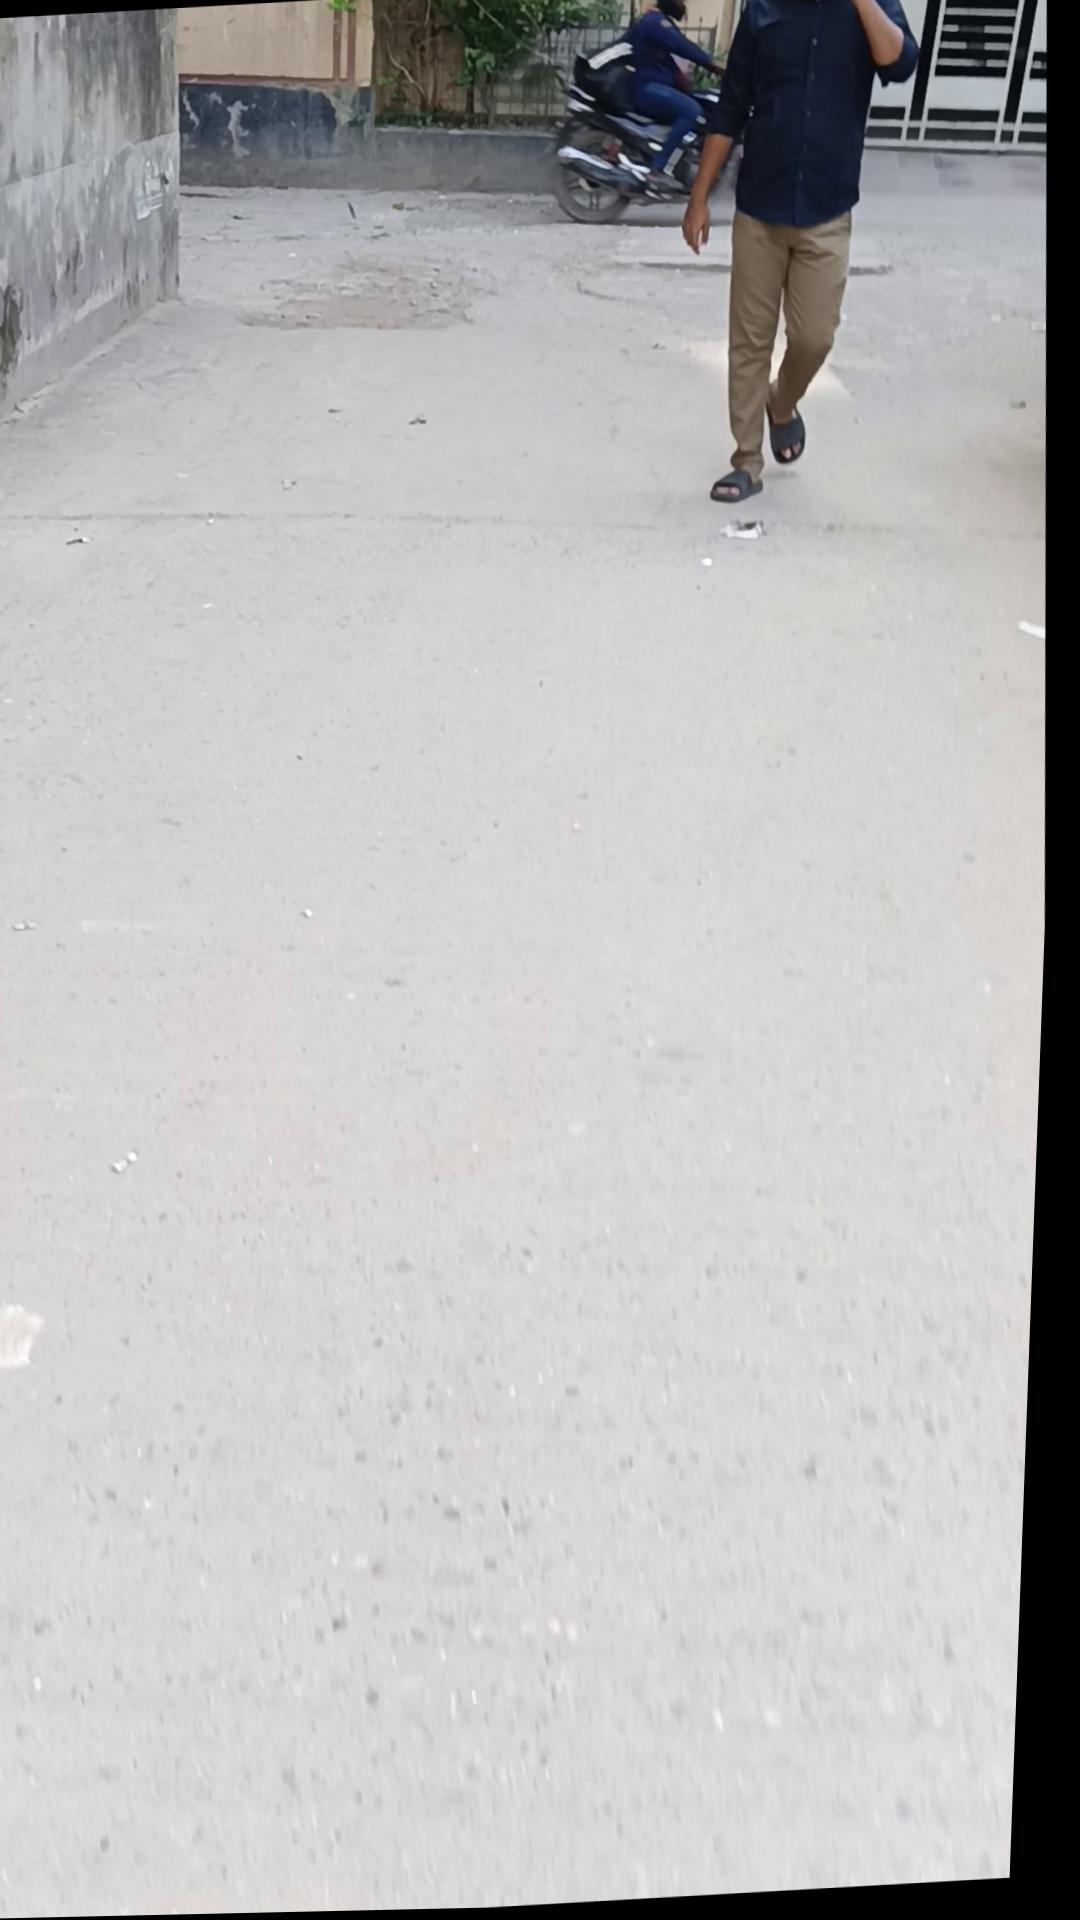Broken-road: (0, 132, 1076, 1920)
Crosswalk: (178, 86, 1047, 228)
Light-pole: (543, 36, 752, 231)
Muddy road: (665, 0, 938, 509), (616, 0, 733, 187)
